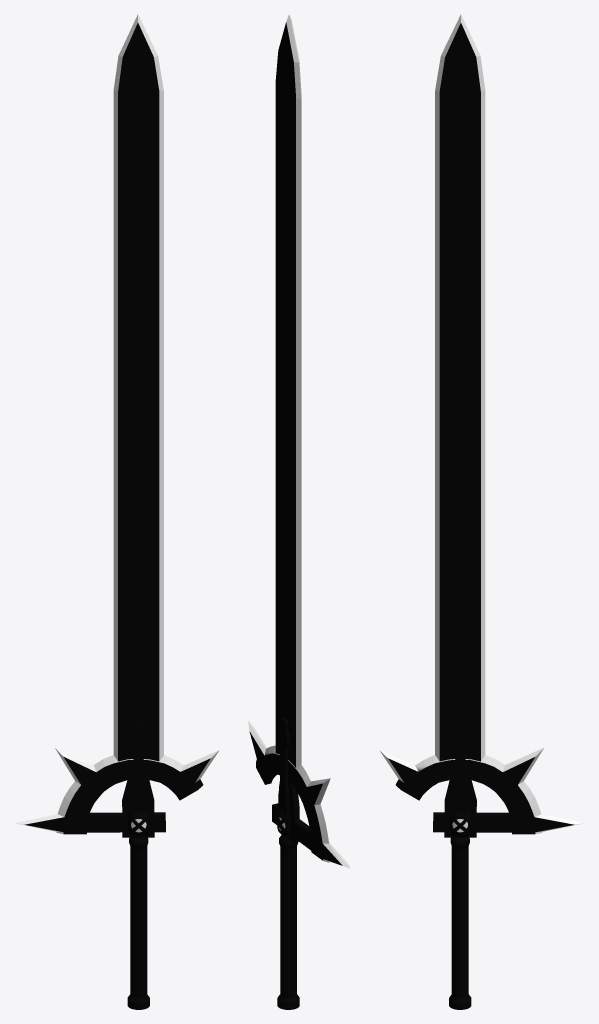
Rendered from elucidator.obj.
3 renders of one model, left to right at view 1: azimuth 90°, elevation 25°; view 2: azimuth 210°, elevation 25°; view 3: azimuth 270°, elevation 25°, orthographic.
Visible parts, largest first — view 1: 立方体_立方体.001; view 2: 立方体_立方体.001; view 3: 立方体_立方体.001.
Part boxes in pixels (left/top/right/bottom): 立方体_立方体.001: left=14, top=14, right=219, bottom=1009; 立方体_立方体.001: left=248, top=14, right=350, bottom=1009; 立方体_立方体.001: left=379, top=14, right=584, bottom=1009.
Bounding box in the file's own units: 0.0673 × 3.28 × 0.6155.
